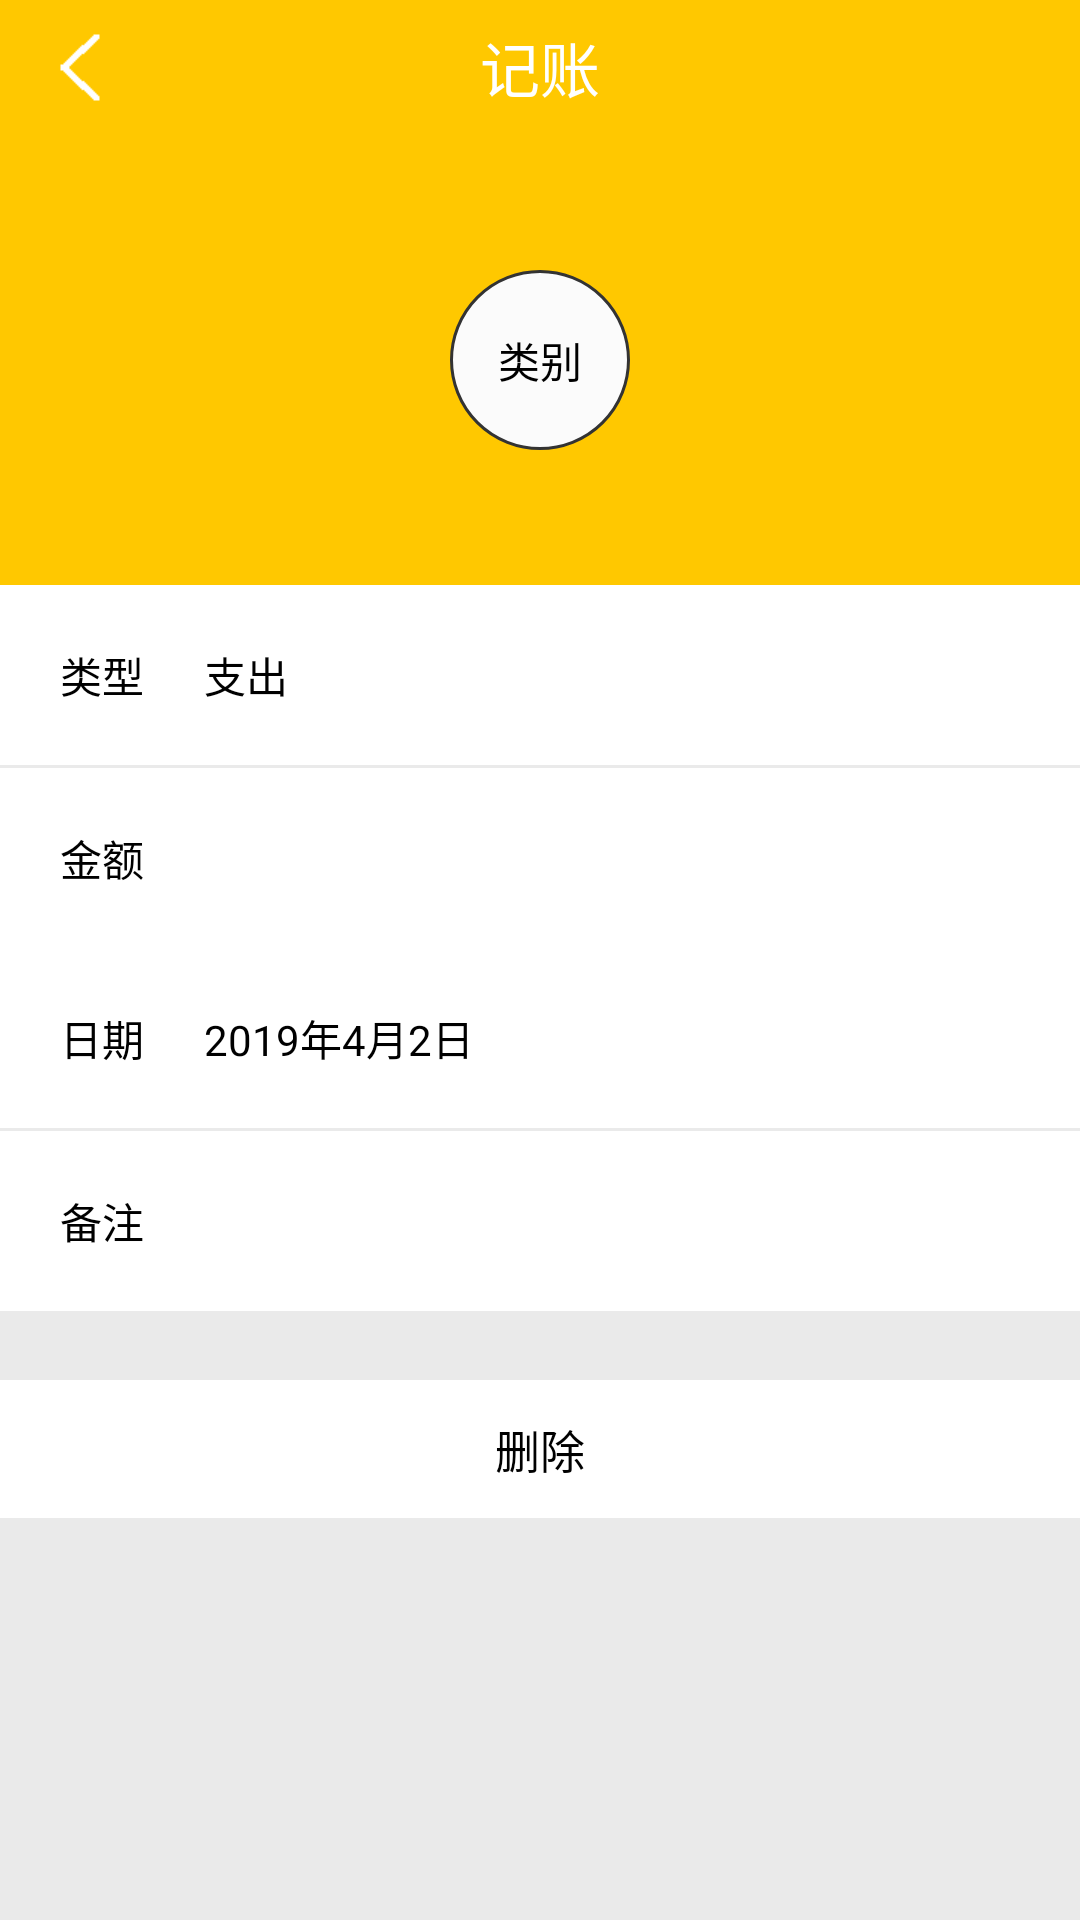

Icon bounding boxes for this 1080 × 1920 phone screenshot, format Rect(x1, y1, x2, y2):
back: Rect(60, 34, 100, 101)
